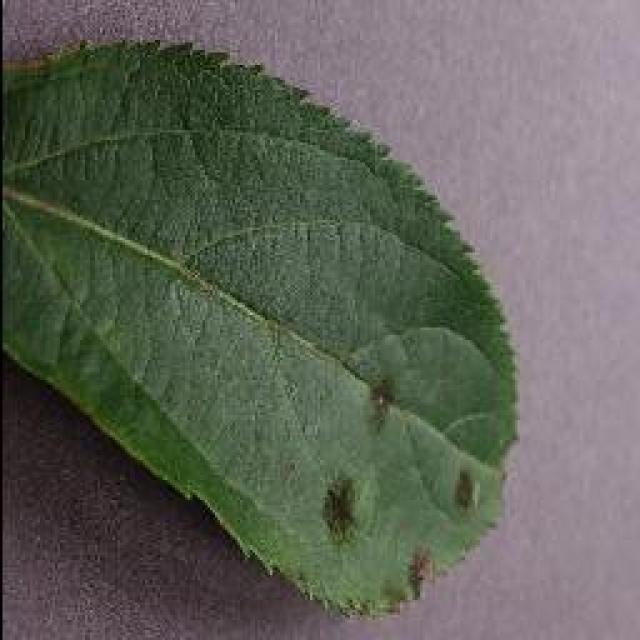apple scab disease: (0, 32, 522, 619)
